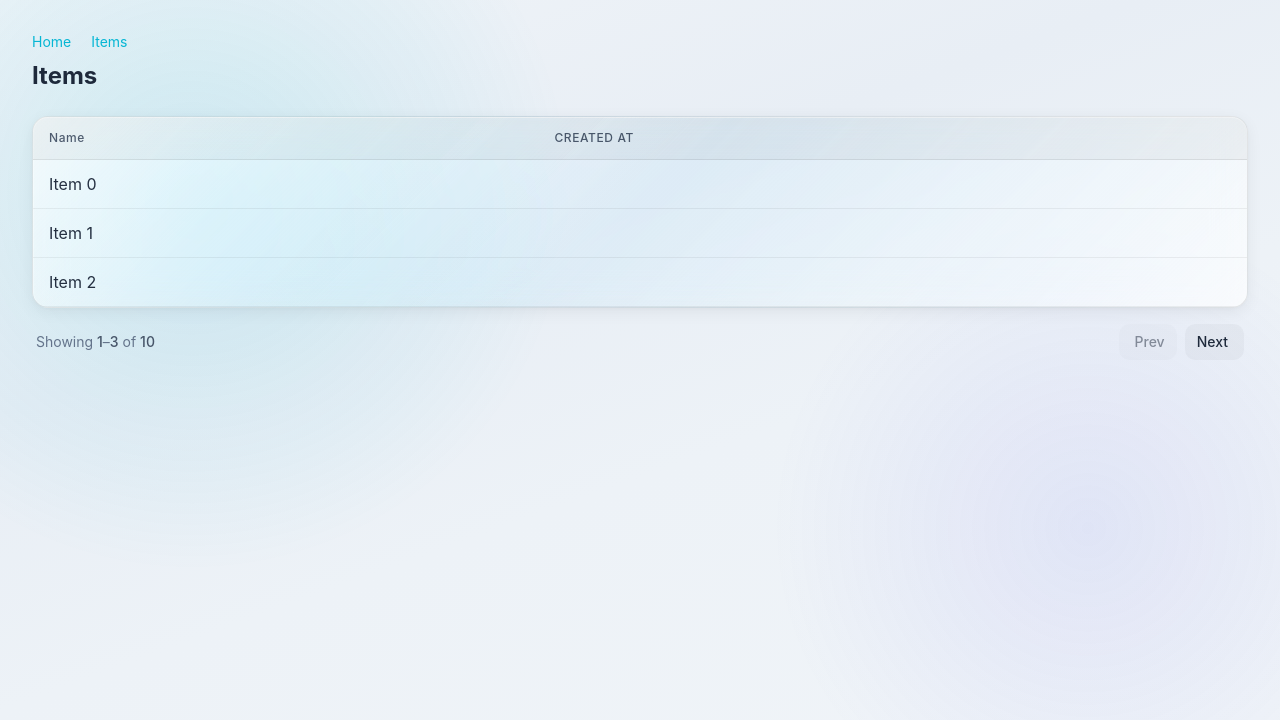
Scenario: EntityListPage › shows second page items when Next is clicked in client pagination
The width and height of the screenshot is (1280, 720).
Click the button "Next": (1214, 342) x1=1185 y1=324 x2=1244 y2=360
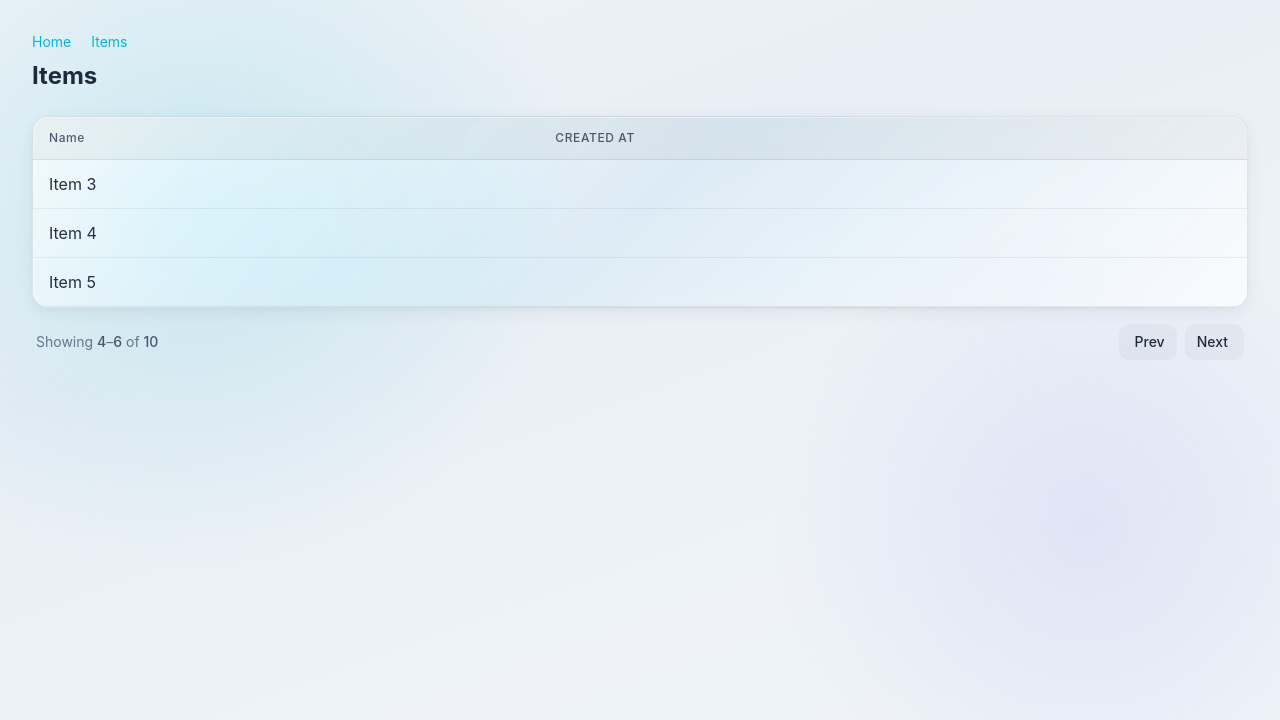
expect the number of cells with test id "desktop-cell" is 3: met, box x1=33 y1=160 x2=539 y2=208; x1=33 y1=208 x2=539 y2=258; x1=33 y1=258 x2=539 y2=306
expect the cell with test id "desktop-cell" reads "Item 3": met, box x1=49 y1=174 x2=96 y2=194
